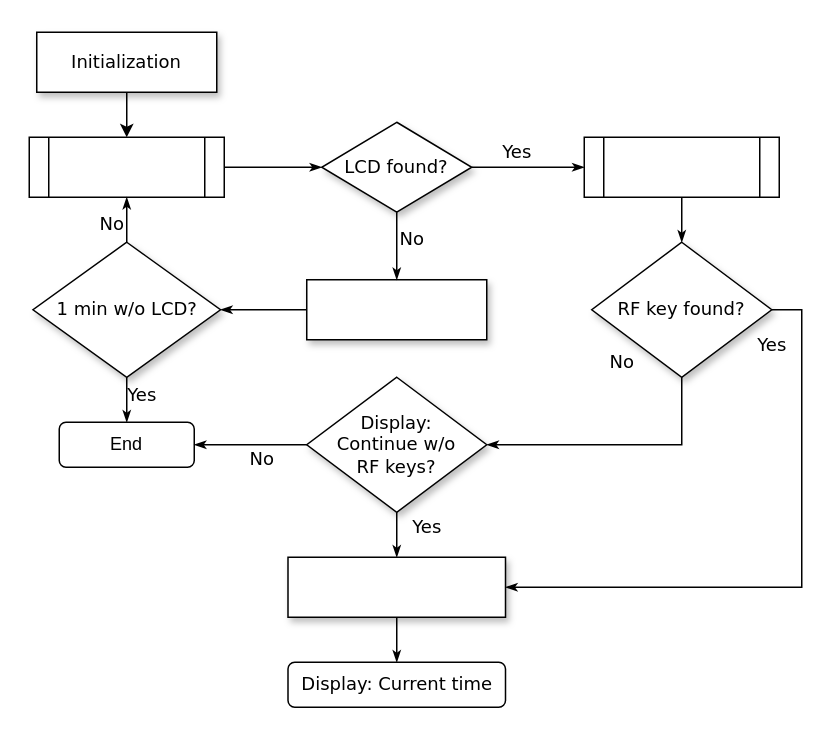
This 839x734 diagram has some shape labels left out. Here are the shapes that lost their labels. From the top down, the centre of each, then its label:
(126,166): Check I2C line
(681,166): Read values from EEPROM
(397,311): Beep alarm 1 s cycle
(397,589): Save alarm if found
